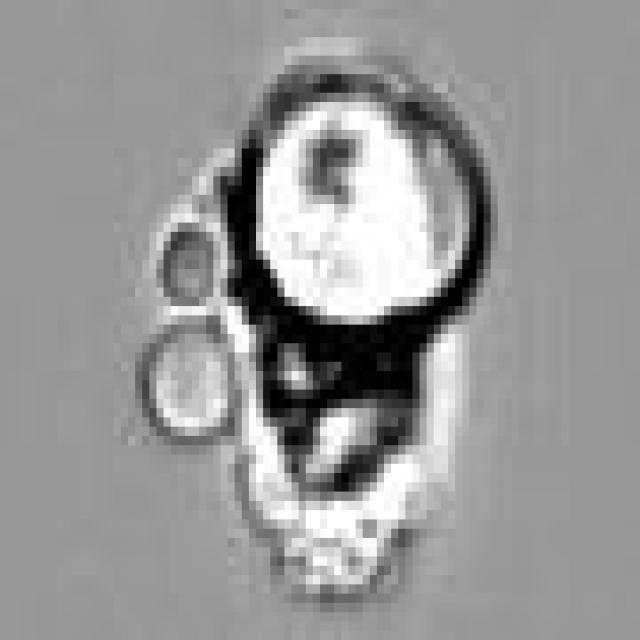Cancer Cell: (242, 56, 490, 334)
WBC: (249, 343, 434, 547)
